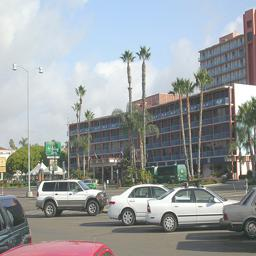car: (69, 228, 213, 256), (164, 221, 256, 256), (1, 212, 62, 256), (1, 245, 226, 256), (196, 224, 256, 256), (220, 218, 256, 256), (222, 242, 256, 256), (162, 248, 189, 256)
